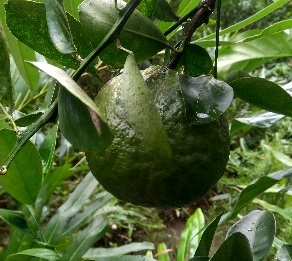Cam: (77, 61, 233, 210)
